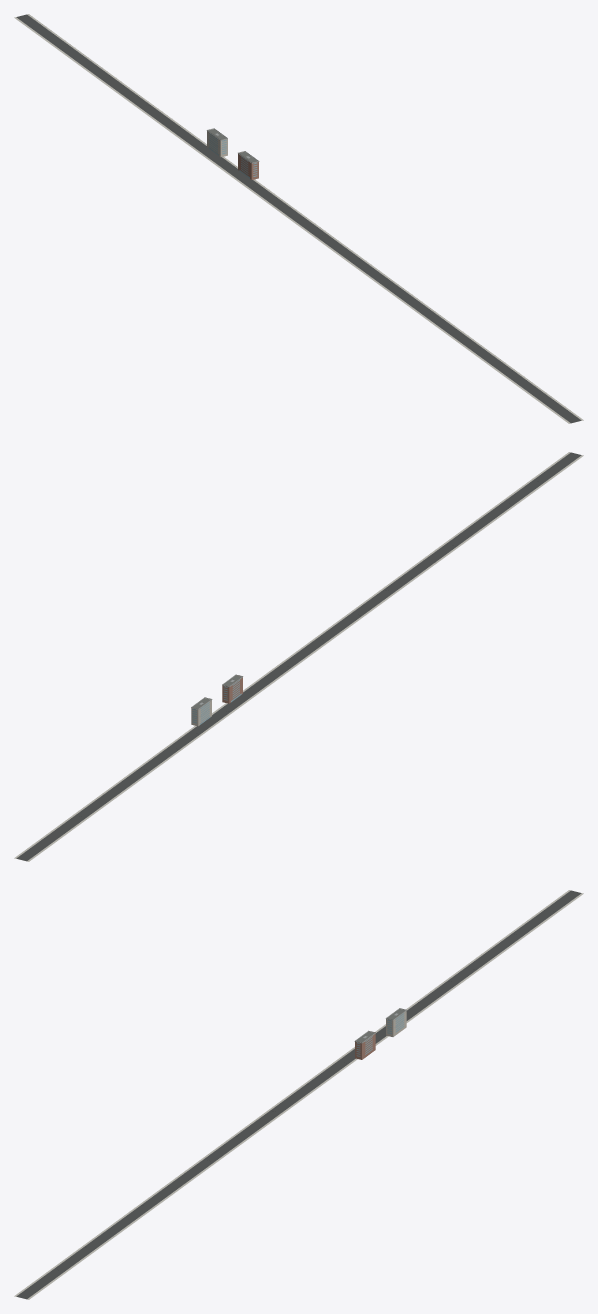
Rendered from tile-m004-p000.glb.
3 renders of one model, top to bottom at view 1: azimuth 30°, elevation 25°; view 2: azimuth 150°, elevation 25°; view 3: azimuth 330°, elevation 25°, orthographic.
Parts seen in each view (by area): view 1: road-v-0-mesh-1, road-v-0-mesh-0; view 2: road-v-0-mesh-1, road-v-0-mesh-0; view 3: road-v-0-mesh-1, road-v-0-mesh-0.
Part boxes in pixels (bbox=[...]): road-v-0-mesh-1: bbox=[16, 14, 581, 423]; road-v-0-mesh-0: bbox=[14, 14, 583, 423]; road-v-0-mesh-1: bbox=[16, 452, 581, 861]; road-v-0-mesh-0: bbox=[14, 452, 583, 861]; road-v-0-mesh-1: bbox=[16, 890, 581, 1299]; road-v-0-mesh-0: bbox=[14, 890, 583, 1299].
Size of the model in its own units: 32.01 by 27.65 by 1600.
